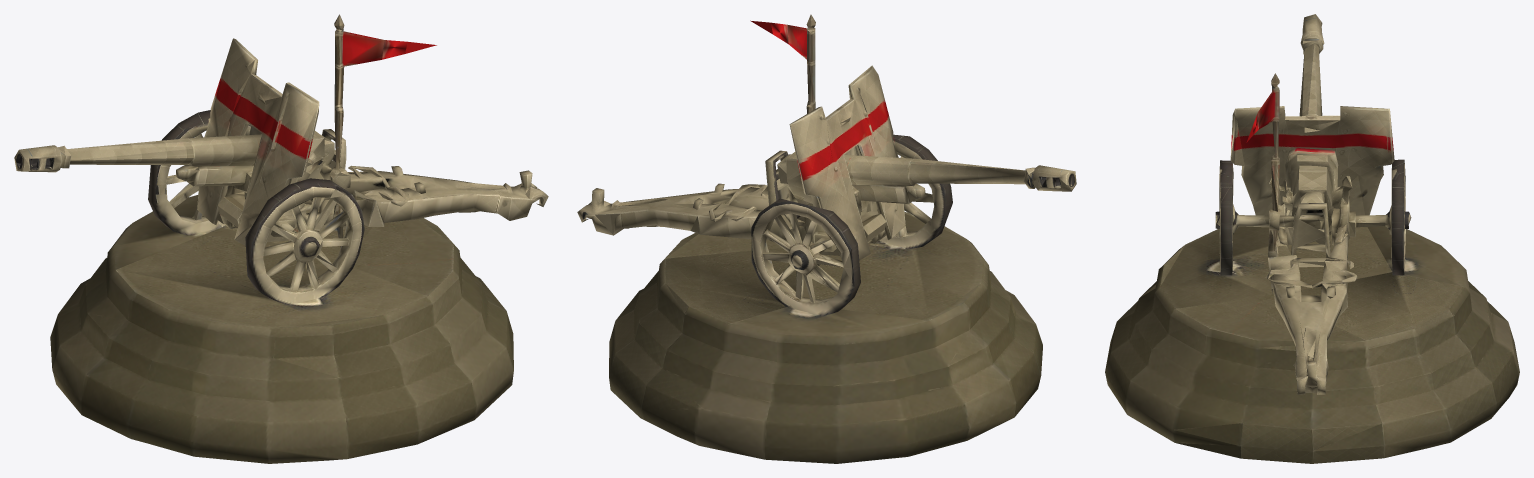
The model's file is ottoman_bishop.glb.
The picture shows the model from 3 angles, left to right: view 1: azimuth 30°, elevation 25°; view 2: azimuth 150°, elevation 25°; view 3: azimuth 270°, elevation 25°; orthographic projection. The views are drawn at different scales.
Size of the model in its own units: 2 by 1.31 by 1.54.
1 material, 1 textured.
